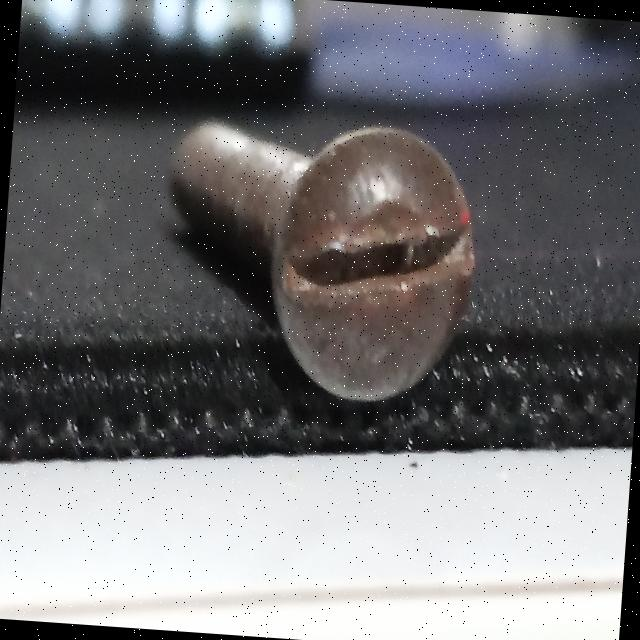Slotted: (258, 140, 497, 422)
